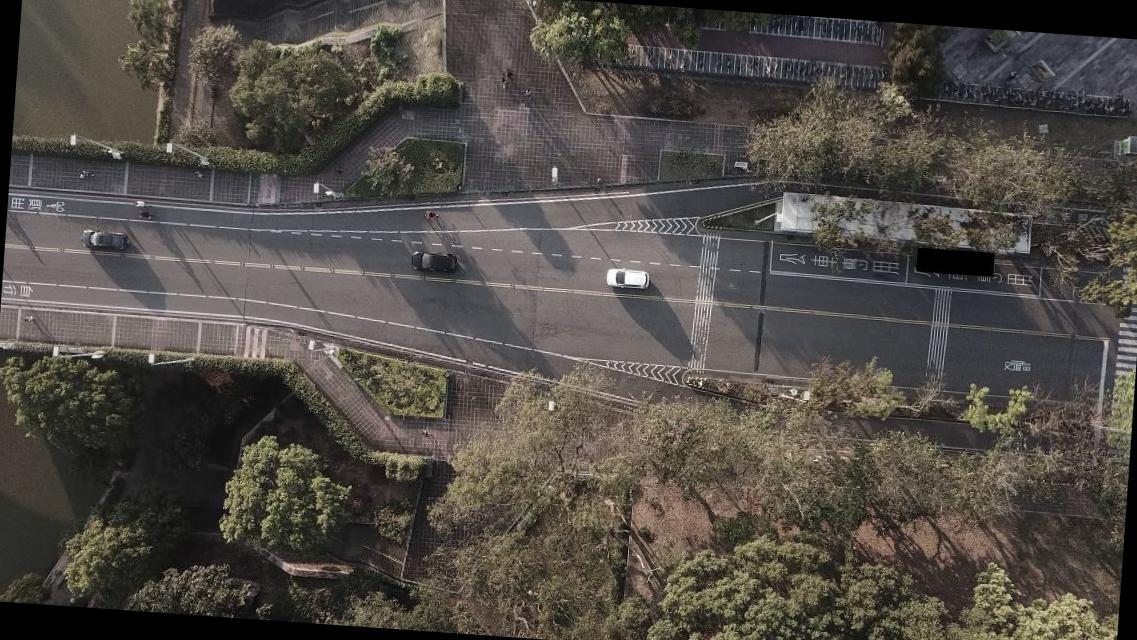vehicle: (80, 228, 130, 252), (605, 266, 650, 292), (410, 249, 458, 273)
